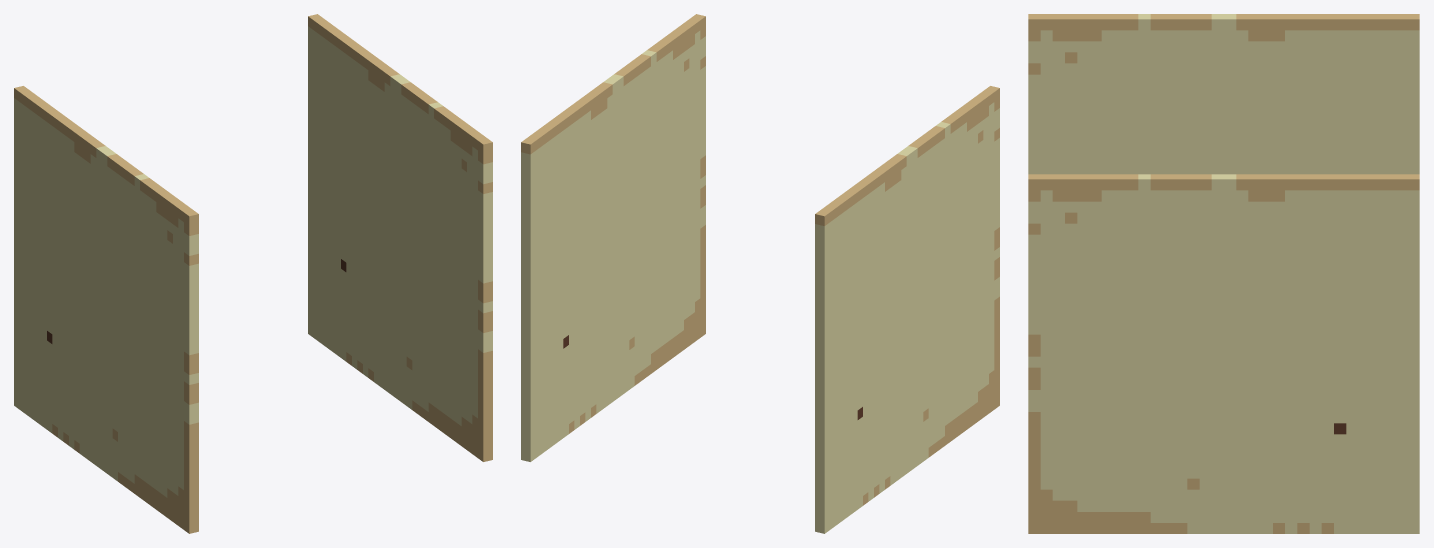
3 views of the same model, side by side, from view 1: azimuth 30°, elevation 25°; view 2: azimuth 150°, elevation 25°; view 3: azimuth 270°, elevation 25° (orthographic). The views are drawn at different scales.
Parts seen in each view (by area): view 1: test-48; view 2: test-48; view 3: test-48.
Boxes of the visible parts, <box> form: test-48: <box>14,14,492,533</box>; test-48: <box>521,14,999,533</box>; test-48: <box>1028,14,1419,533</box>.
Size of the model in its own units: 32 by 32 by 32.
1 material, 1 textured.
